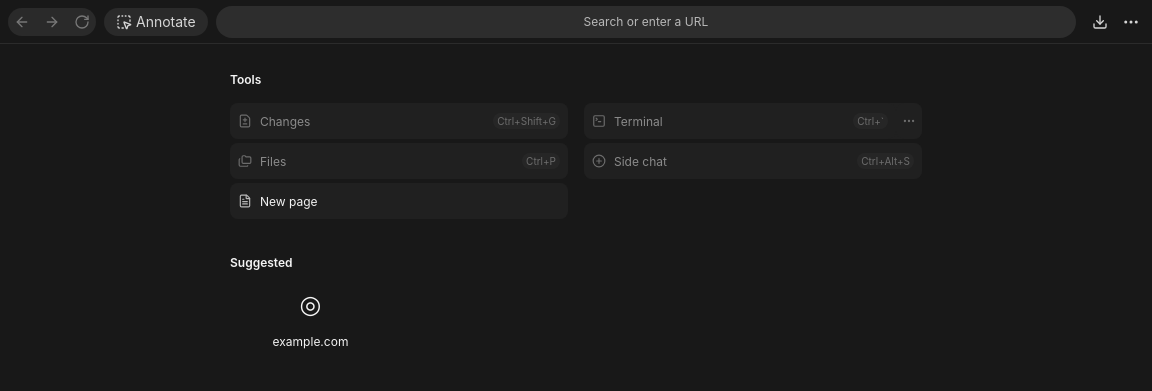
Test: shows a New page creation failure in the browser without changing composer feedback
The width and height of the screenshot is (1152, 391).
Click the button "New page".
click(289, 201)  # box x1=230 y1=183 x2=568 y2=219
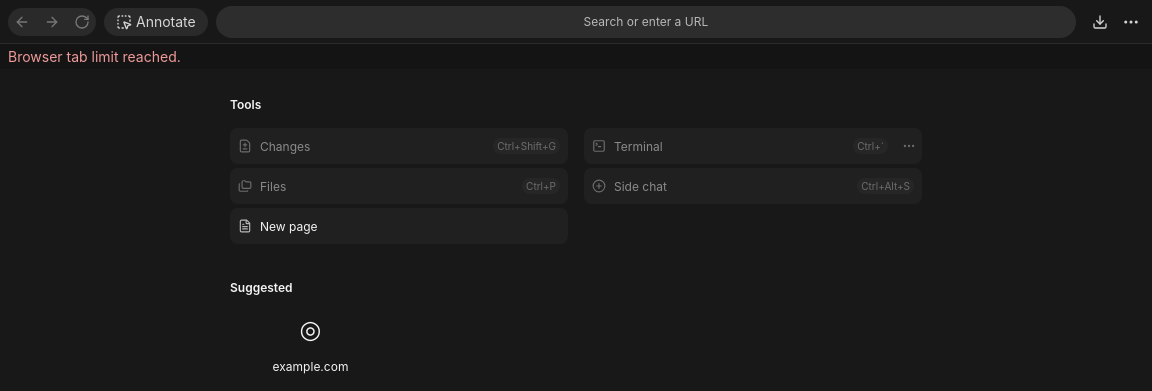
Now the text "Browser tab limit reached." is shown, box x1=0 y1=44 x2=1151 y2=69
